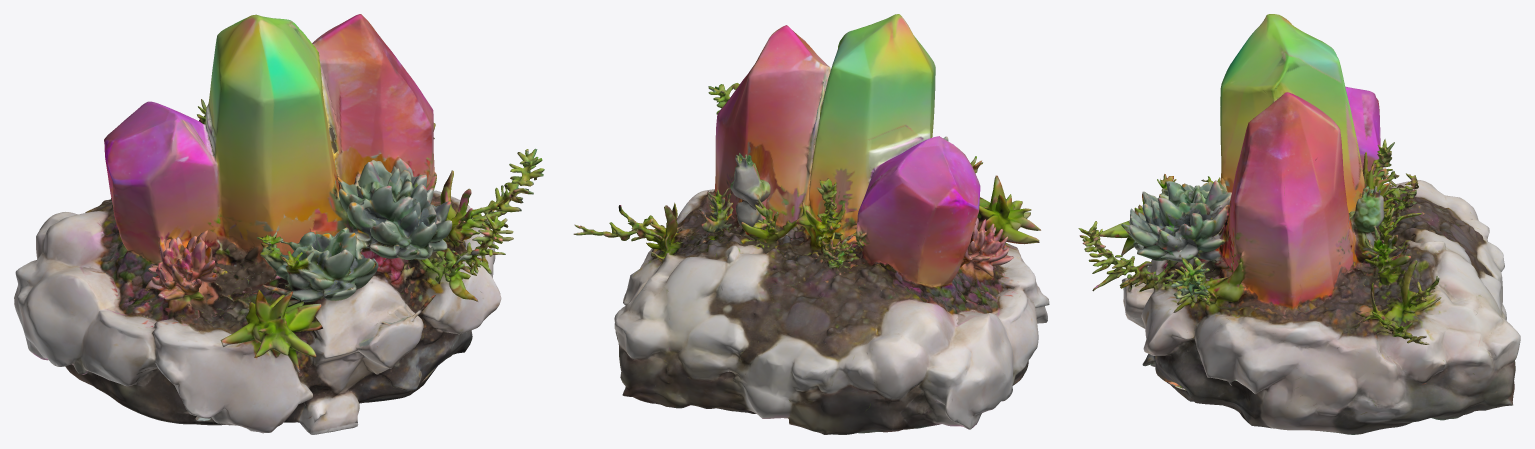
Rendered from Meshy_AI_a_large_rainbow_cryst_1016100600_texture.fbx.
3 renders of one model, left to right at view 1: azimuth 30°, elevation 25°; view 2: azimuth 150°, elevation 25°; view 3: azimuth 270°, elevation 25°, orthographic. The views are drawn at different scales.
Parts seen in each view (by area): view 1: Mesh_0; view 2: Mesh_0; view 3: Mesh_0.
Boxes of the visible parts, bbox=[...] form: Mesh_0: bbox=[14, 14, 544, 434]; Mesh_0: bbox=[573, 14, 1049, 434]; Mesh_0: bbox=[1078, 14, 1520, 434].
Bounding box in the file's own units: 198 × 165 × 193.
Materials: 1 (1 with a texture image).
